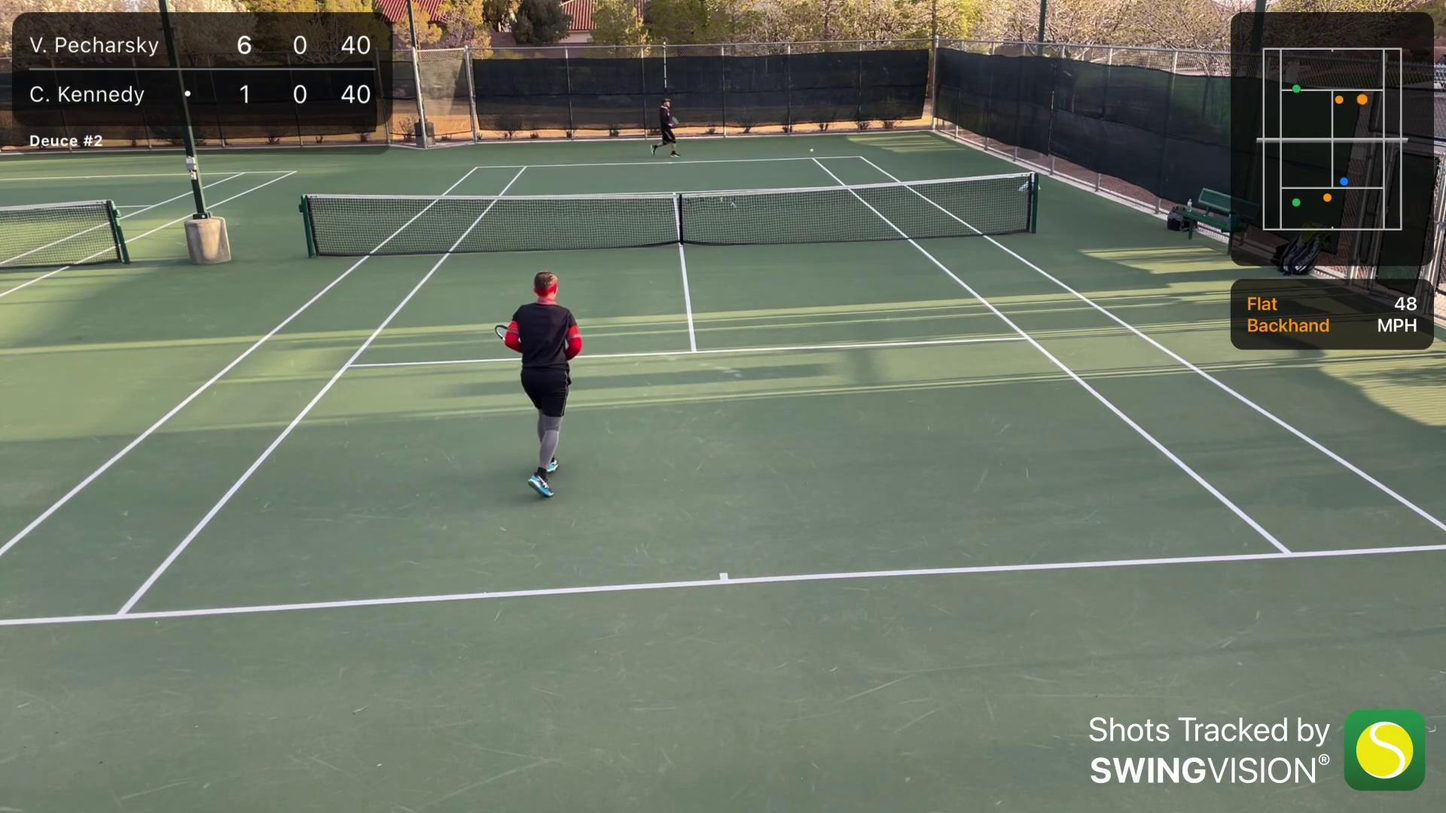ball: (808, 146, 816, 154)
